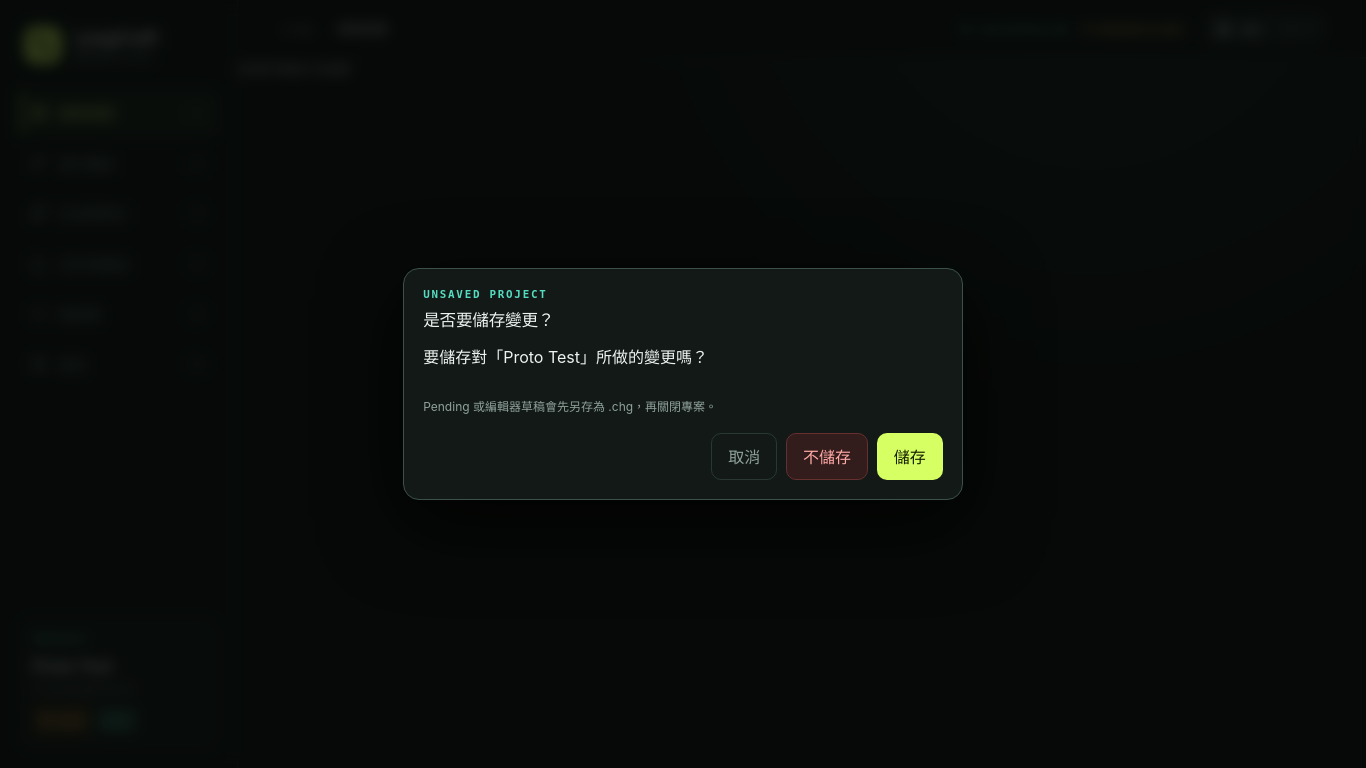
Shell desktop commands › cancels a native close without saving or closing
Click the button "取消": coordinates (744, 456) [711,433,777,480]
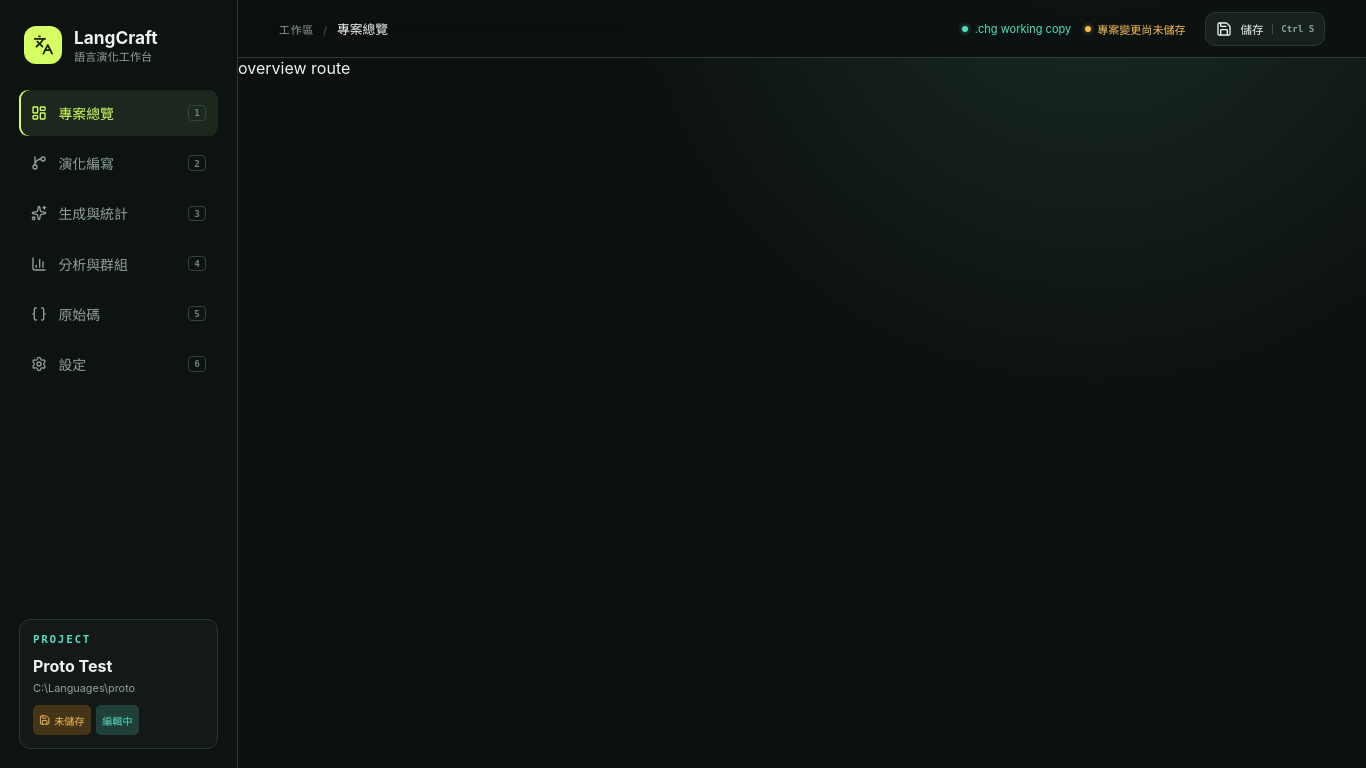
Now the heading "是否要儲存變更？" is gone
